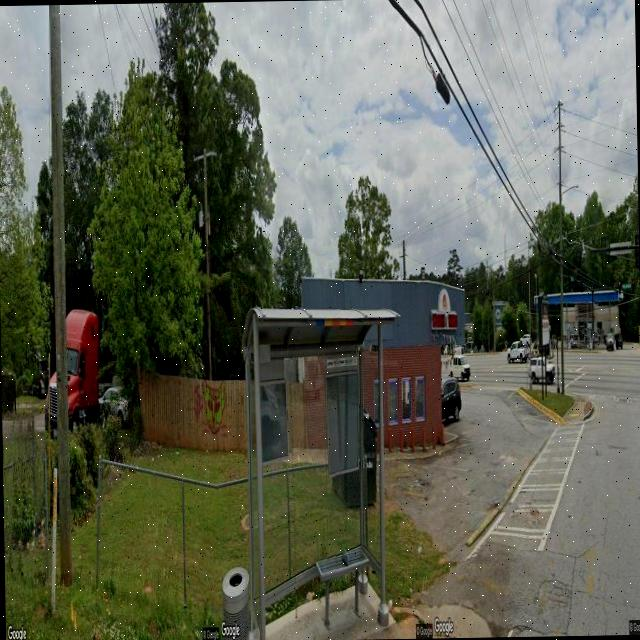seating: (315, 544, 371, 627)
shelter: (241, 301, 404, 640)
trash_can: (219, 565, 248, 640)
